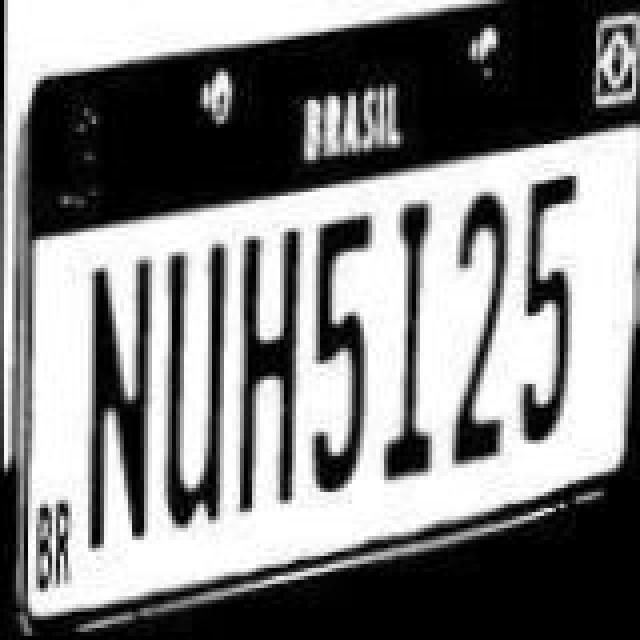2: (444, 170, 520, 454)
5: (310, 194, 382, 478), (520, 160, 588, 428)
H: (236, 212, 312, 500)
I: (380, 182, 448, 470)
N: (86, 244, 162, 552)
U: (158, 226, 234, 526)
